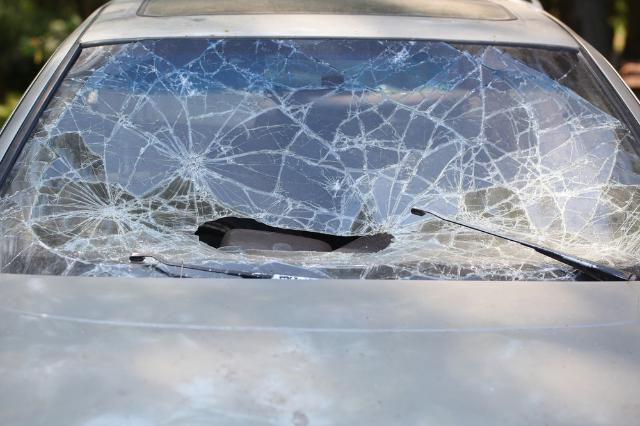glass shatter: (0, 38, 640, 282)
